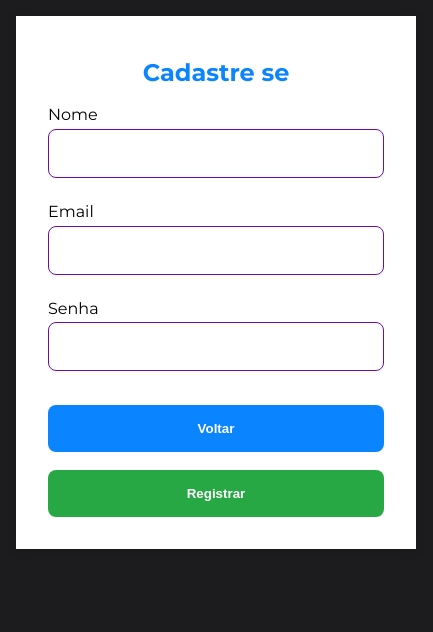
Test: RegisterForm › deve exibir os erros quando os inputs estiverem como valores errados
The width and height of the screenshot is (433, 632).
Type "qw" into the field with placeholder "Nome" at point(216, 153), box x1=48 y1=129 x2=384 y2=178
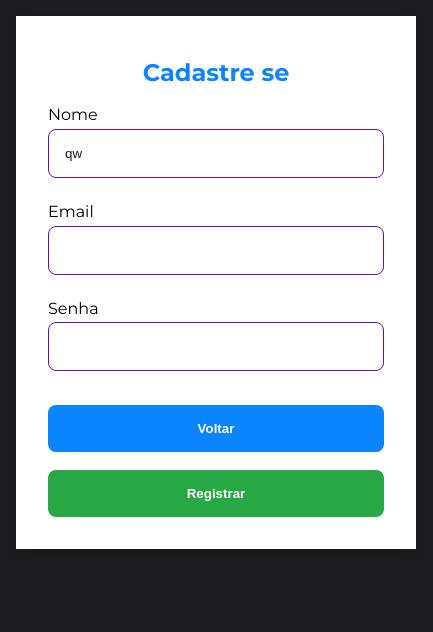
Type "qdwdwd" into the field with placeholder "Email" at point(216, 250), box x1=48 y1=226 x2=384 y2=275
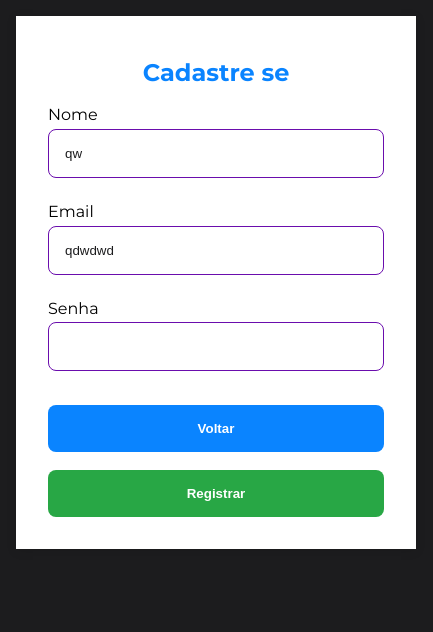
Type "wa" into the password field with placeholder "Password" at point(216, 347), box x1=48 y1=322 x2=384 y2=371
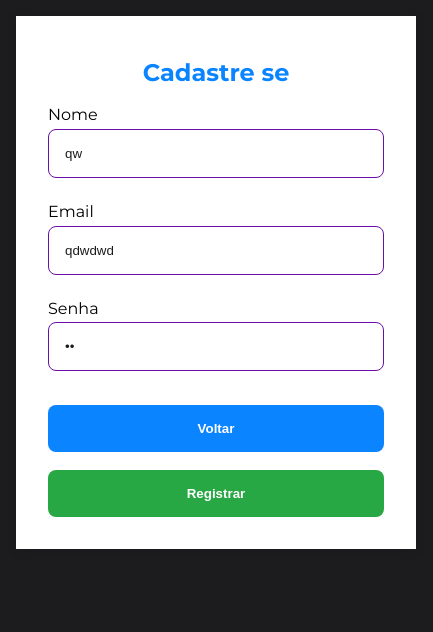
Click the button "Registrar" at point(216, 494), box x1=48 y1=470 x2=384 y2=517
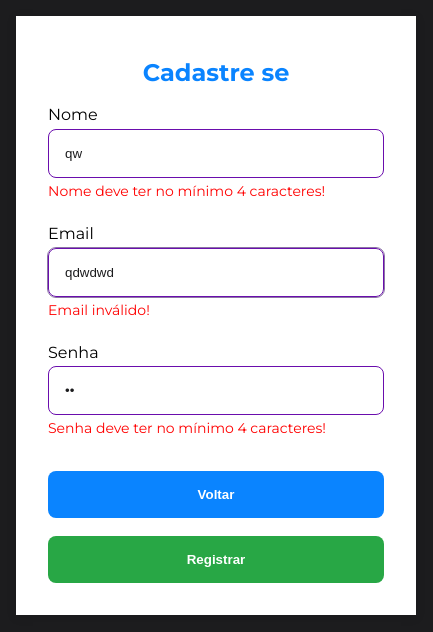
Expected: the text "Nome deve ter no mínimo 4 caracteres!" is shown, x1=48 y1=182 x2=325 y2=200
Expected: the text "Email inválido!" is shown, x1=48 y1=301 x2=150 y2=319
Expected: the text "Senha deve ter no mínimo 4 caracteres!" is shown, x1=48 y1=419 x2=326 y2=437
